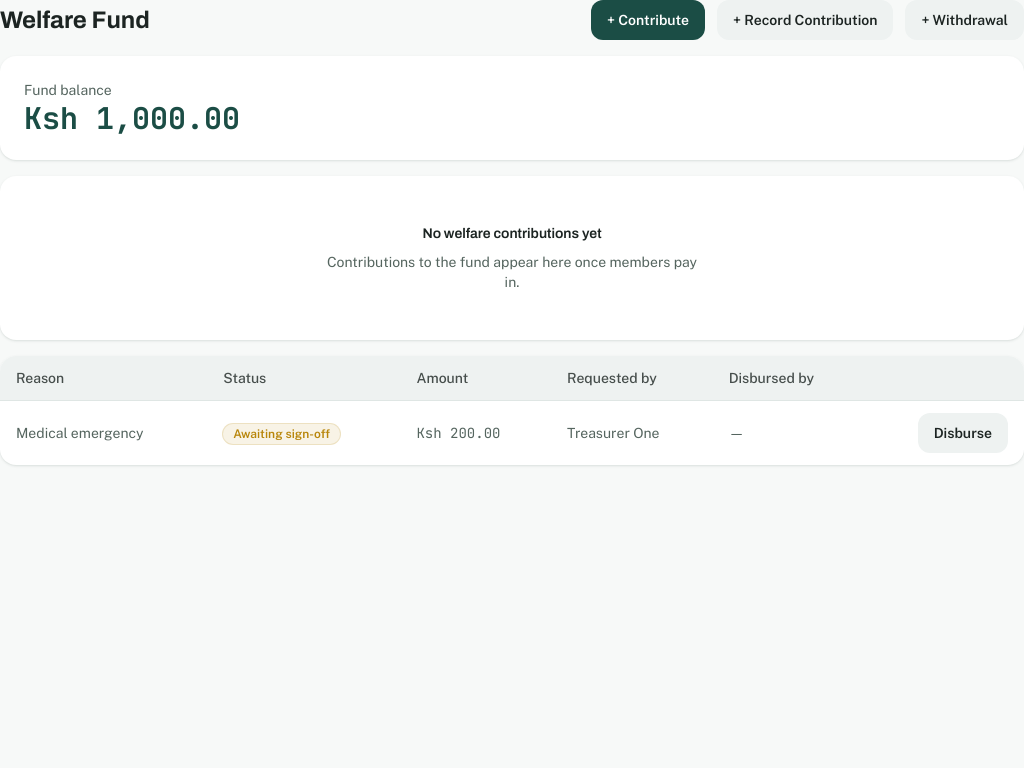
Test: WelfareFundPage › confirms before releasing the money, and reports a refusal on the page
The image size is (1024, 768).
Step 1. Click the button "Disburse" → (963, 433), box x1=918 y1=413 x2=1008 y2=453
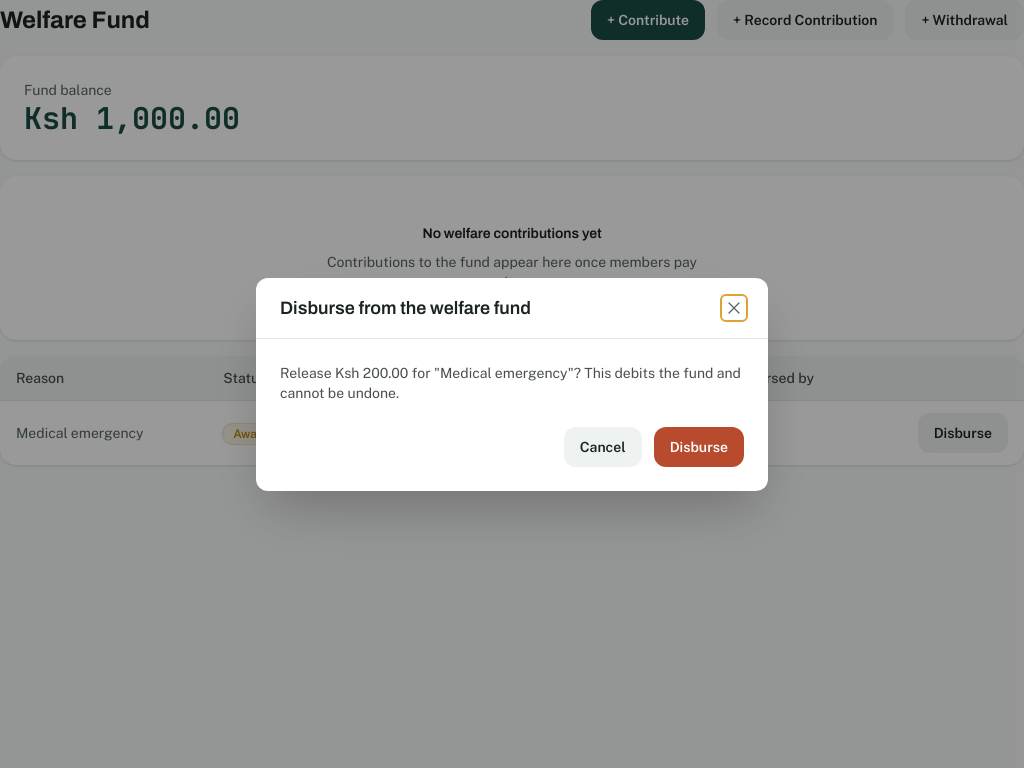
Result: the text "cannot be undone" is shown at x1=280 y1=364 x2=741 y2=400
Step 2. Click the button "Disburse" → (699, 446), box x1=654 y1=426 x2=744 y2=466
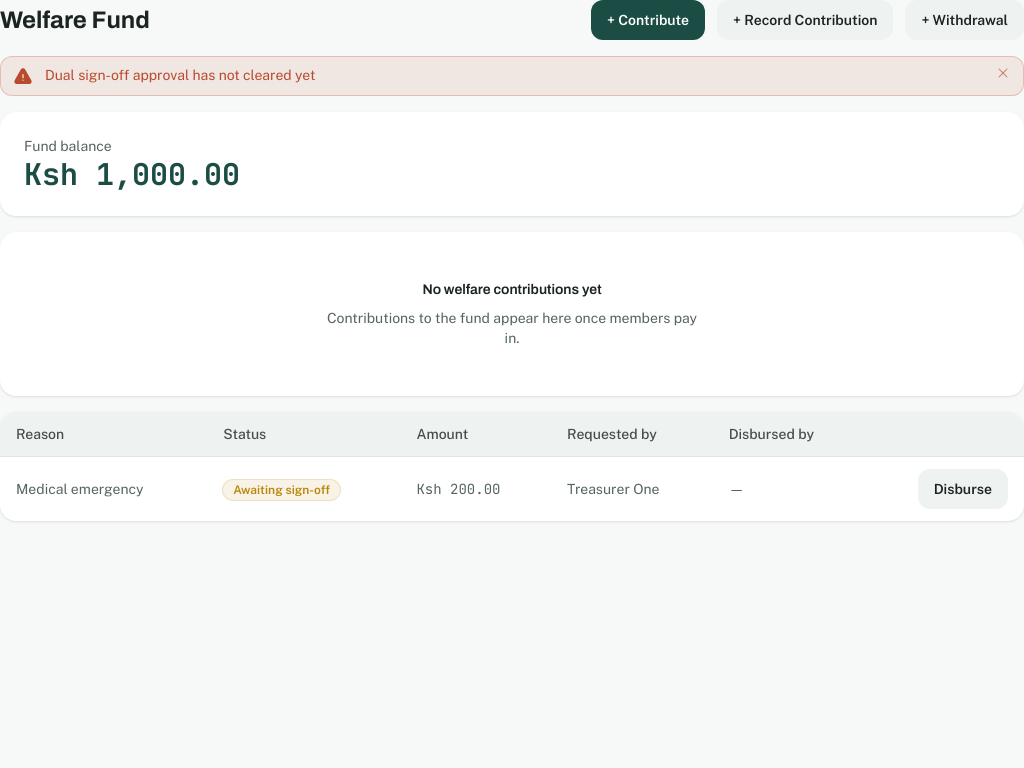
Result: the text "Dual sign-off approval has not cleared yet" is shown at x1=45 y1=67 x2=315 y2=83
